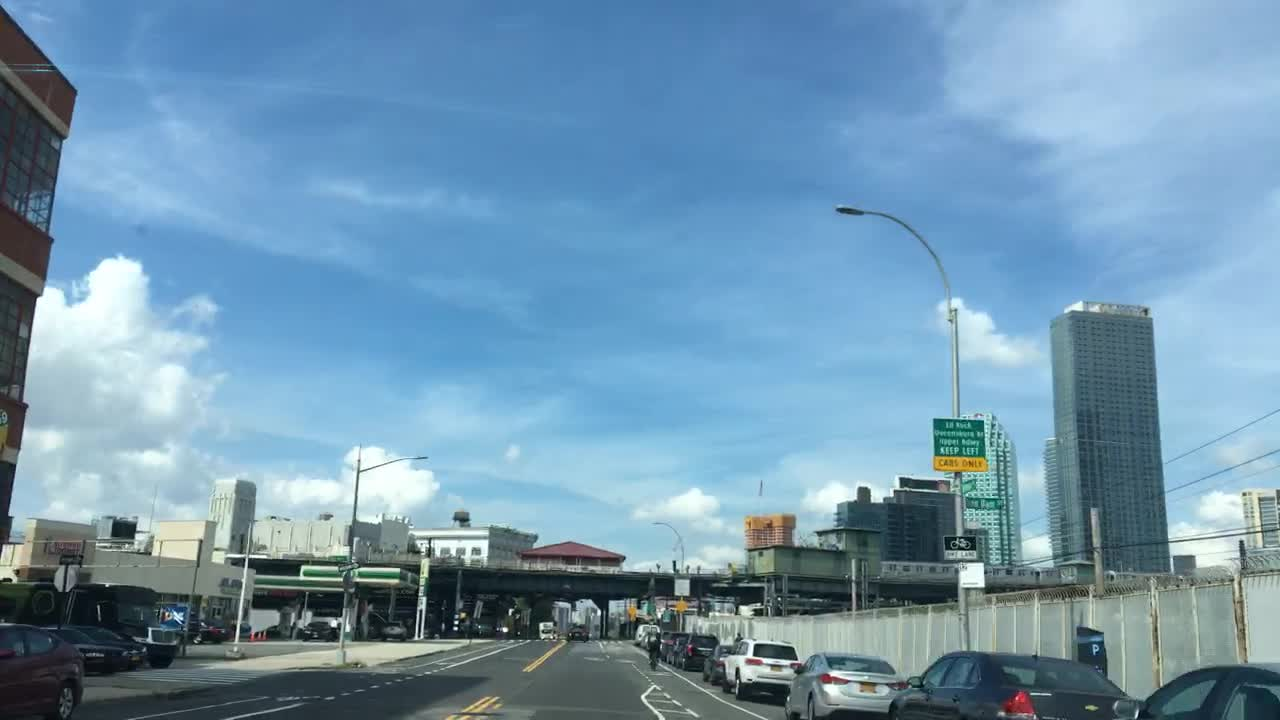bike: (645, 647, 658, 669)
car: (887, 653, 1140, 719), (1113, 663, 1278, 719), (782, 653, 907, 718), (0, 623, 81, 718), (41, 624, 125, 675), (722, 640, 799, 695), (81, 624, 149, 670), (162, 602, 233, 644), (676, 633, 716, 671), (700, 645, 730, 686), (254, 626, 300, 641), (668, 633, 689, 665), (376, 621, 406, 642), (457, 618, 487, 638), (303, 621, 334, 639), (631, 625, 658, 645), (564, 624, 589, 644), (640, 631, 662, 648), (657, 633, 670, 661), (424, 627, 442, 637)
rider: (646, 626, 661, 663)
traffic sign: (932, 419, 987, 473), (943, 536, 976, 558), (956, 563, 984, 588), (53, 567, 77, 592), (340, 598, 355, 633), (964, 497, 1004, 509), (59, 552, 84, 566), (956, 480, 977, 494), (245, 570, 254, 600), (334, 561, 360, 571), (342, 571, 352, 595), (673, 578, 686, 596), (625, 603, 637, 621), (474, 600, 483, 622), (670, 601, 685, 612), (659, 610, 670, 624), (520, 610, 528, 625)
truck: (1, 582, 177, 669), (539, 622, 554, 639)
